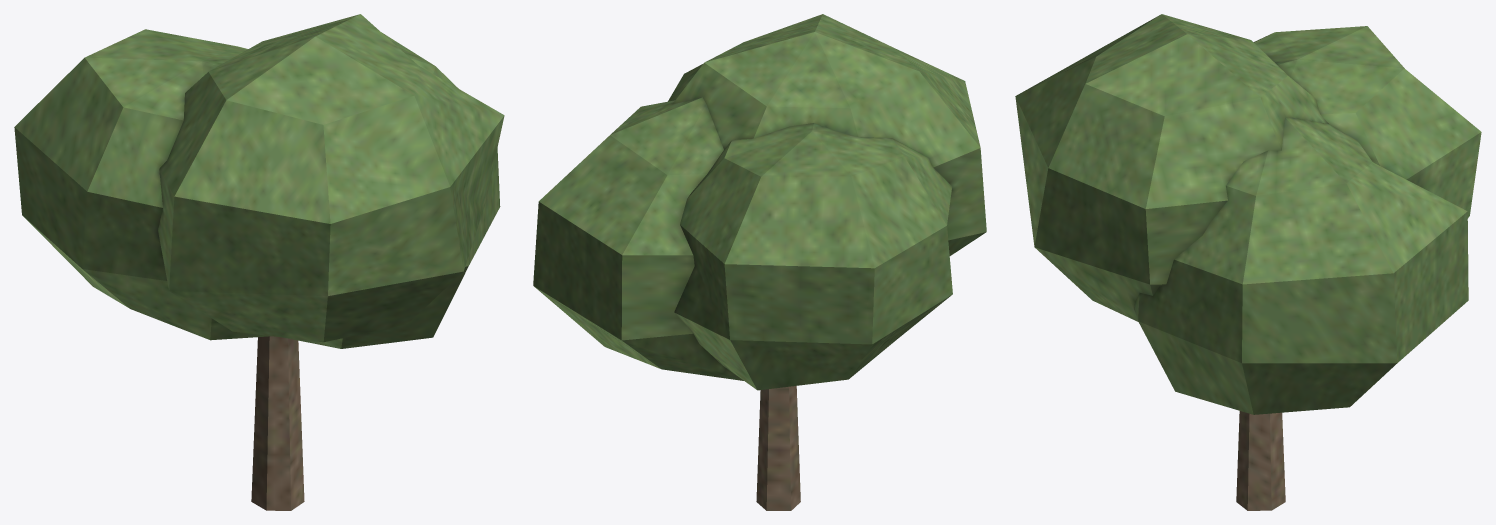
File: SM_Tree_Oak_B.fbx
The picture shows the model from 3 angles, left to right: view 1: azimuth 30°, elevation 25°; view 2: azimuth 150°, elevation 25°; view 3: azimuth 270°, elevation 25°; orthographic projection. The views are drawn at different scales.
Parts seen in each view (by area): view 1: SM_Tree_Oak_B; view 2: SM_Tree_Oak_B; view 3: SM_Tree_Oak_B.
Part boxes in pixels (left/top/right/bottom): SM_Tree_Oak_B: left=14, top=14, right=504, bottom=510; SM_Tree_Oak_B: left=533, top=14, right=986, bottom=510; SM_Tree_Oak_B: left=1015, top=14, right=1481, bottom=510.
Size of the model in its own units: 815 by 945 by 855.
Materials: 1 (1 with a texture image).
